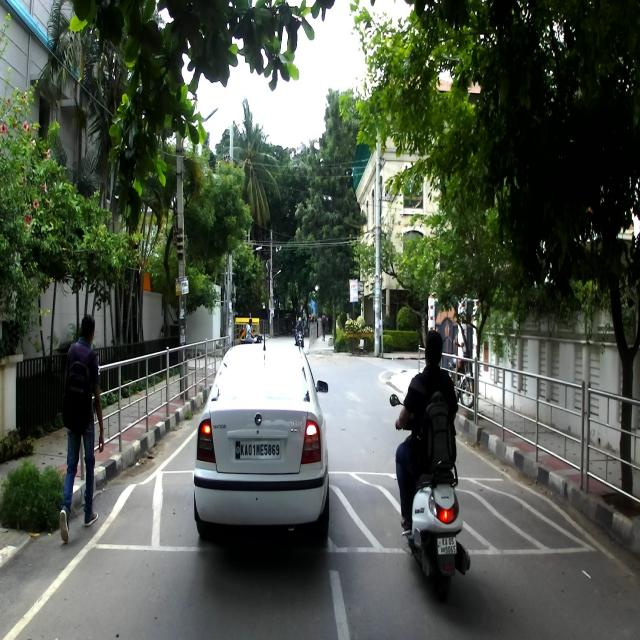car: (193, 331, 329, 544)
scooter: (389, 394, 470, 602)
